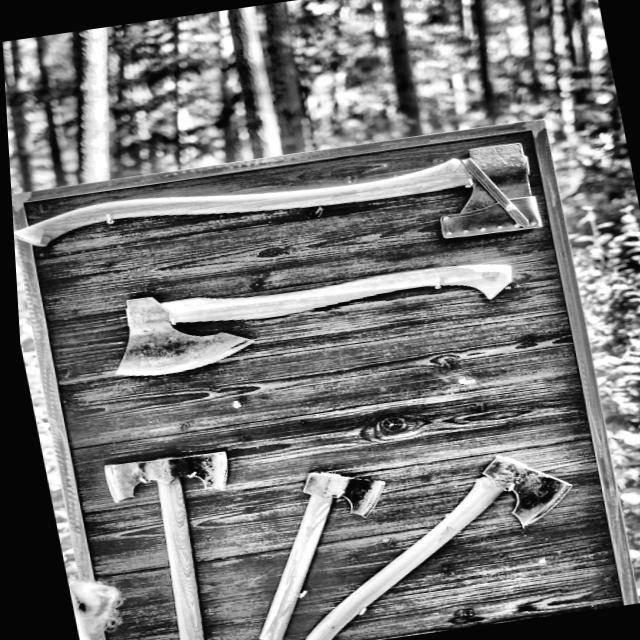kapak: (108, 254, 521, 386)
